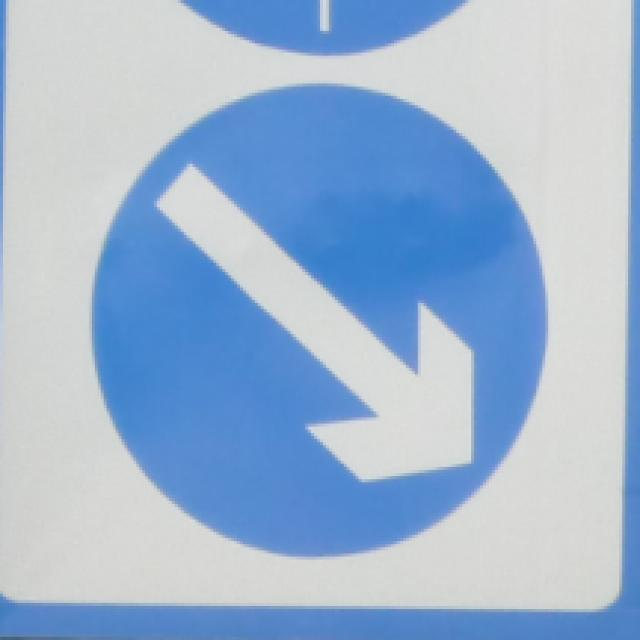Right: (87, 66, 562, 568)
